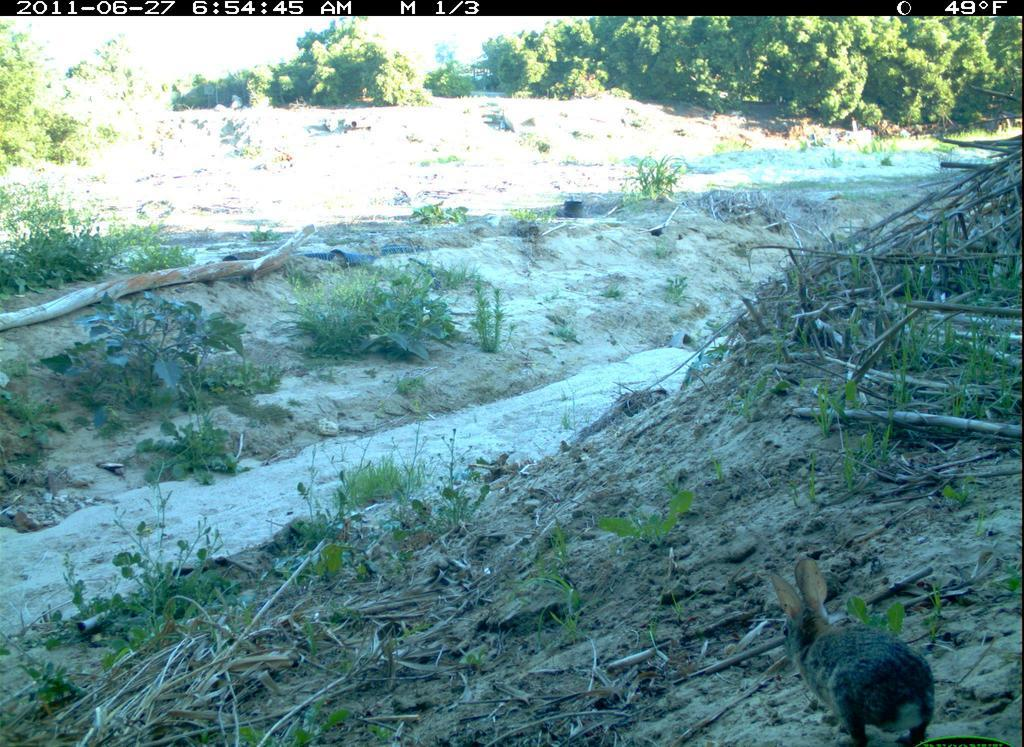rabbit: (765, 555, 940, 747)
